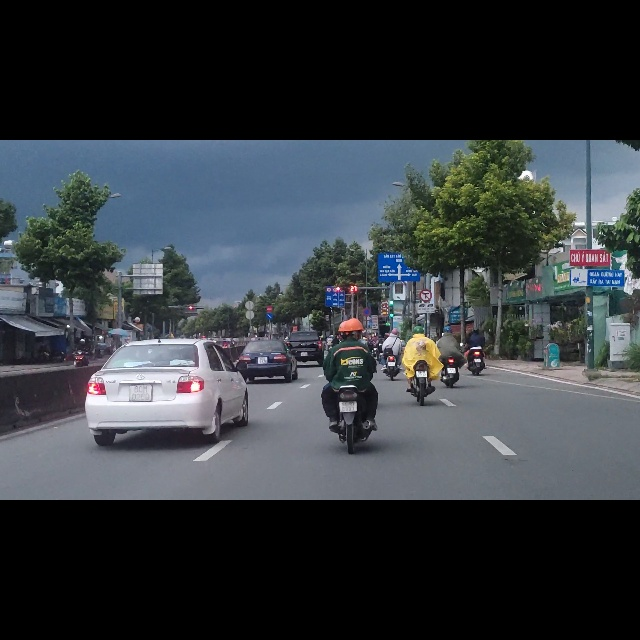bien_cam: (325, 270, 345, 296), (420, 265, 432, 288), (363, 299, 371, 313), (266, 295, 273, 306), (266, 308, 273, 319)
